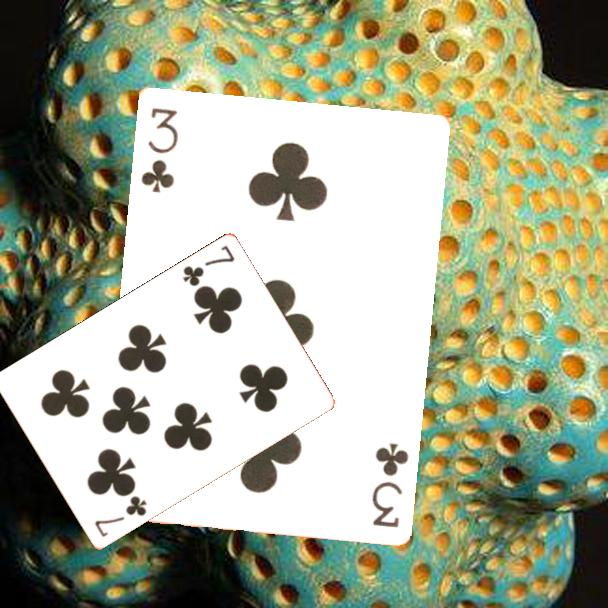c03: (137, 104, 181, 196), (368, 439, 411, 530)
c07: (91, 492, 150, 541), (179, 242, 237, 290)
